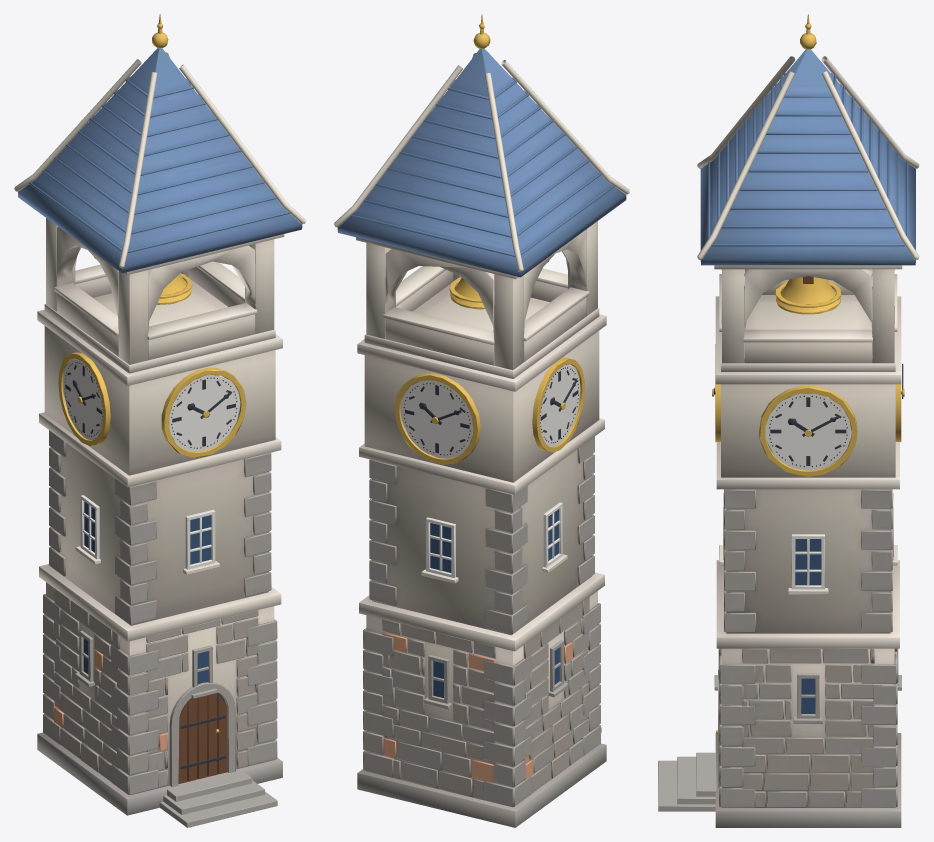
Rendered from arch_clocktower.glb.
3 renders of one model, left to right at view 1: azimuth 30°, elevation 25°; view 2: azimuth 150°, elevation 25°; view 3: azimuth 270°, elevation 25°, orthographic. The views are drawn at different scales.
Parts seen in each view (by area): view 1: clock-tower_body, clock-tower_details, clock-tower_bell; view 2: clock-tower_body, clock-tower_details, clock-tower_bell; view 3: clock-tower_body, clock-tower_details, clock-tower_bell.
Boxes of the visible parts, x1,y1,x2,y2 form: clock-tower_body: (18, 48, 302, 815); clock-tower_details: (14, 52, 305, 827); clock-tower_bell: (58, 14, 246, 783); clock-tower_body: (337, 48, 626, 827); clock-tower_details: (334, 53, 629, 732); clock-tower_bell: (394, 14, 584, 464); clock-tower_body: (700, 49, 915, 827); clock-tower_details: (658, 56, 919, 811); clock-tower_bell: (712, 14, 904, 733).
Size of the model in its own units: 4.11 by 15.8 by 4.82.
10 materials, 1 textured.
